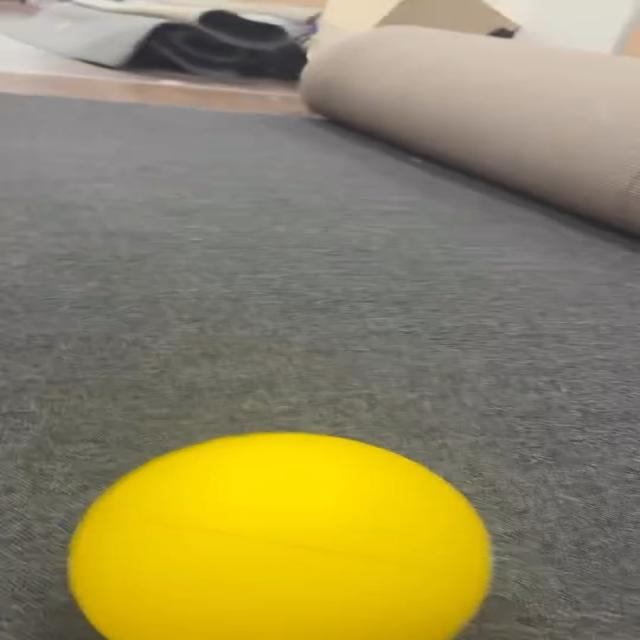Fuels: (69, 433, 488, 638)
